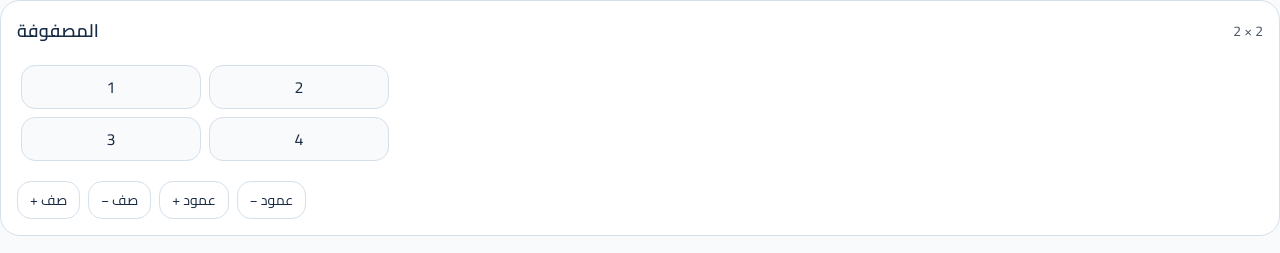
Test: Linear Algebra - MatrixEditor › removes rows and columns safely
Click the button with aria-label "حذف صف": (120, 200) [88, 181, 151, 219]
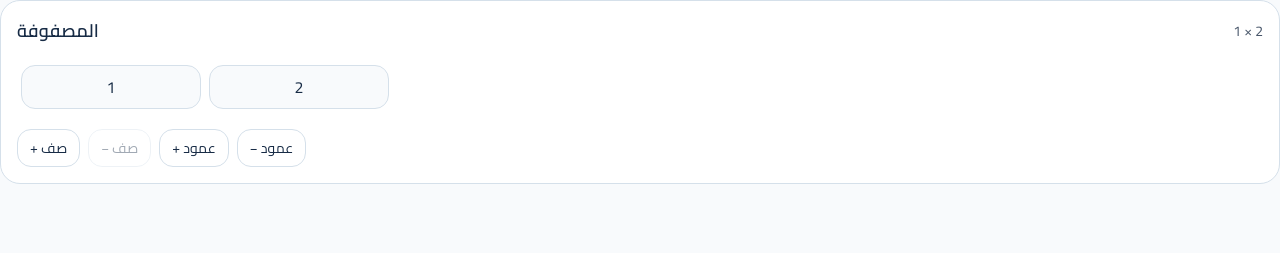
Click the button with aria-label "حذف عمود": (272, 148) [237, 129, 306, 167]
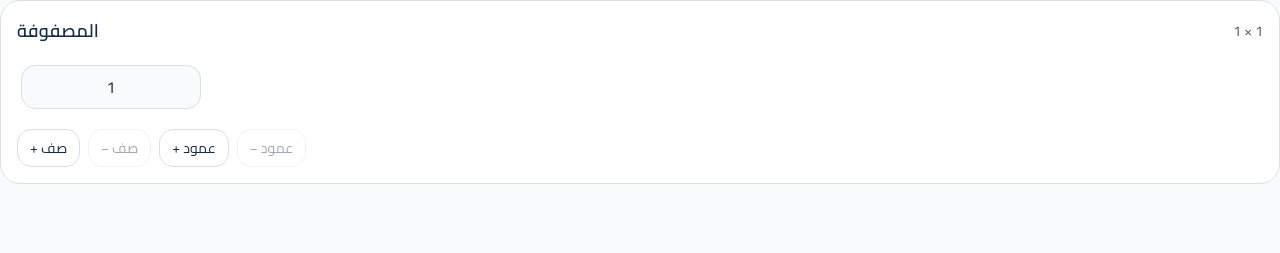
Expected: the button with aria-label "حذف صف" is disabled, [88, 129, 151, 167]
Expected: the text "1 × 1" is shown, [1233, 21, 1263, 41]
Expected: the button with aria-label "حذف عمود" is disabled, [237, 129, 306, 167]
